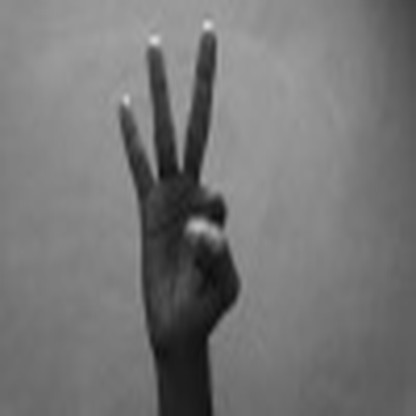f: (99, 1, 256, 344)
